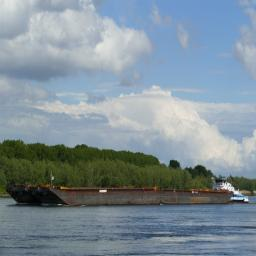tugboat: (210, 177, 251, 207)
